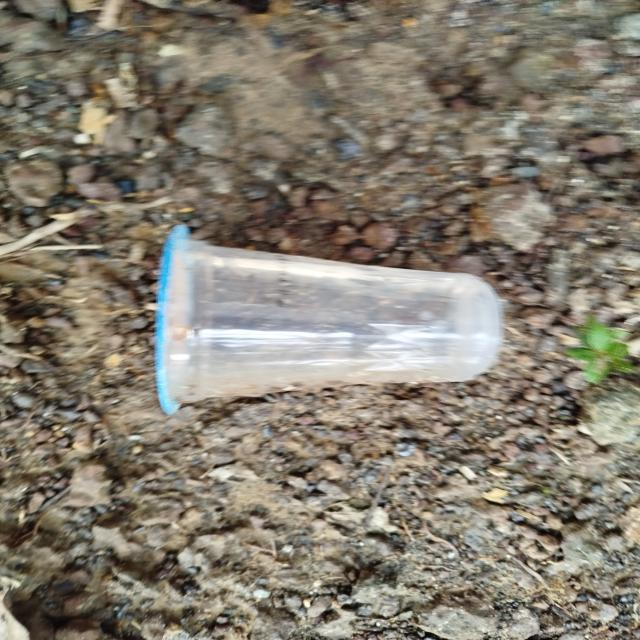plastic: (122, 210, 547, 436)
